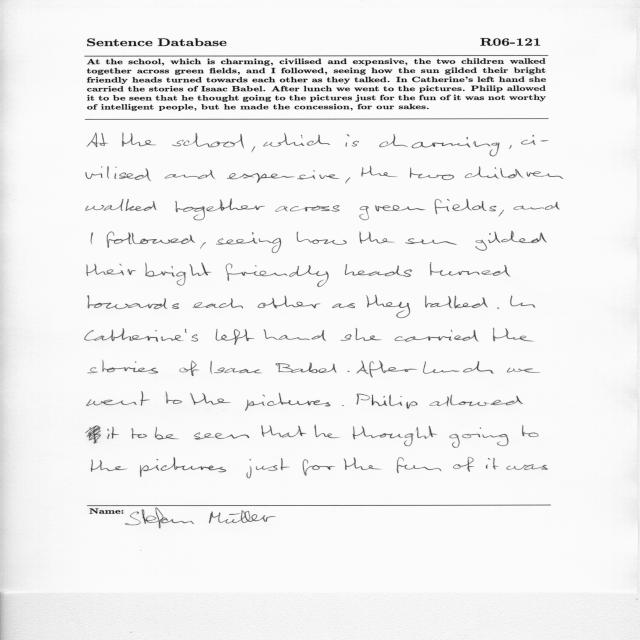word: (379, 134, 500, 156), (226, 264, 329, 287), (175, 199, 265, 220), (140, 457, 226, 477), (353, 426, 437, 446), (85, 328, 198, 342), (145, 263, 212, 286), (245, 393, 330, 411), (107, 231, 195, 248), (227, 170, 340, 183), (475, 231, 547, 251), (216, 232, 281, 253), (465, 166, 563, 179), (88, 295, 179, 309), (450, 427, 509, 448), (430, 262, 511, 277), (172, 133, 244, 149), (430, 395, 523, 406), (366, 295, 410, 318), (395, 330, 479, 342), (359, 205, 426, 220), (86, 166, 152, 181), (357, 361, 417, 377), (263, 133, 330, 147), (435, 199, 497, 214), (423, 361, 494, 374), (357, 394, 418, 409), (88, 361, 158, 374), (86, 392, 150, 406), (345, 264, 412, 277), (247, 458, 290, 478), (86, 199, 157, 211), (425, 296, 488, 309), (258, 296, 321, 308), (264, 329, 326, 341), (296, 231, 347, 245), (397, 457, 441, 473), (210, 361, 262, 374), (216, 329, 255, 345), (275, 363, 337, 373), (87, 264, 136, 276), (261, 425, 306, 438), (302, 459, 335, 476), (193, 298, 243, 309), (341, 328, 382, 341), (493, 328, 534, 341), (410, 168, 454, 180), (190, 393, 231, 405), (344, 457, 381, 470), (91, 459, 127, 472), (275, 205, 340, 212), (165, 170, 215, 179), (122, 133, 156, 146), (360, 232, 395, 244), (361, 166, 397, 177), (194, 433, 249, 440), (513, 202, 560, 210), (405, 238, 457, 245), (314, 425, 340, 438), (453, 457, 475, 472), (510, 296, 536, 308), (179, 361, 199, 376), (155, 427, 178, 440), (87, 133, 108, 147), (521, 135, 549, 145), (86, 426, 101, 444), (506, 464, 548, 470), (166, 392, 183, 404), (522, 425, 539, 437), (346, 134, 359, 147), (507, 368, 540, 373), (132, 428, 147, 439), (107, 427, 119, 439), (486, 458, 498, 469), (332, 303, 355, 308), (498, 210, 504, 217), (200, 242, 206, 249), (346, 177, 351, 184), (252, 146, 256, 152), (91, 233, 93, 245), (509, 145, 512, 149), (497, 307, 500, 309), (347, 371, 350, 372), (342, 405, 344, 406)
